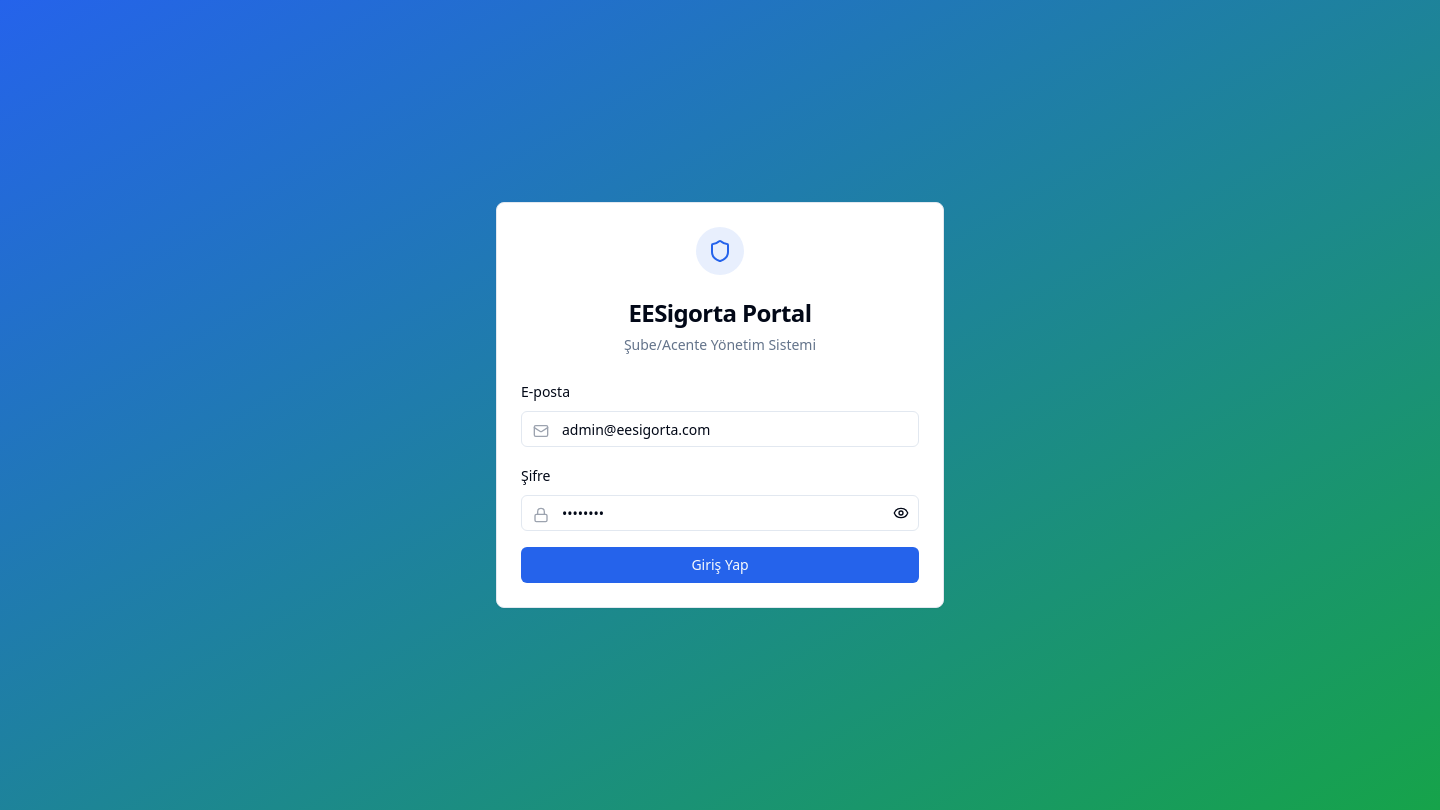
Test case: LoginPage › shows validation error for short password
The image size is (1440, 810).
In the password field labelled "Şifre": (720, 513) [521,495,919,531], type "123"
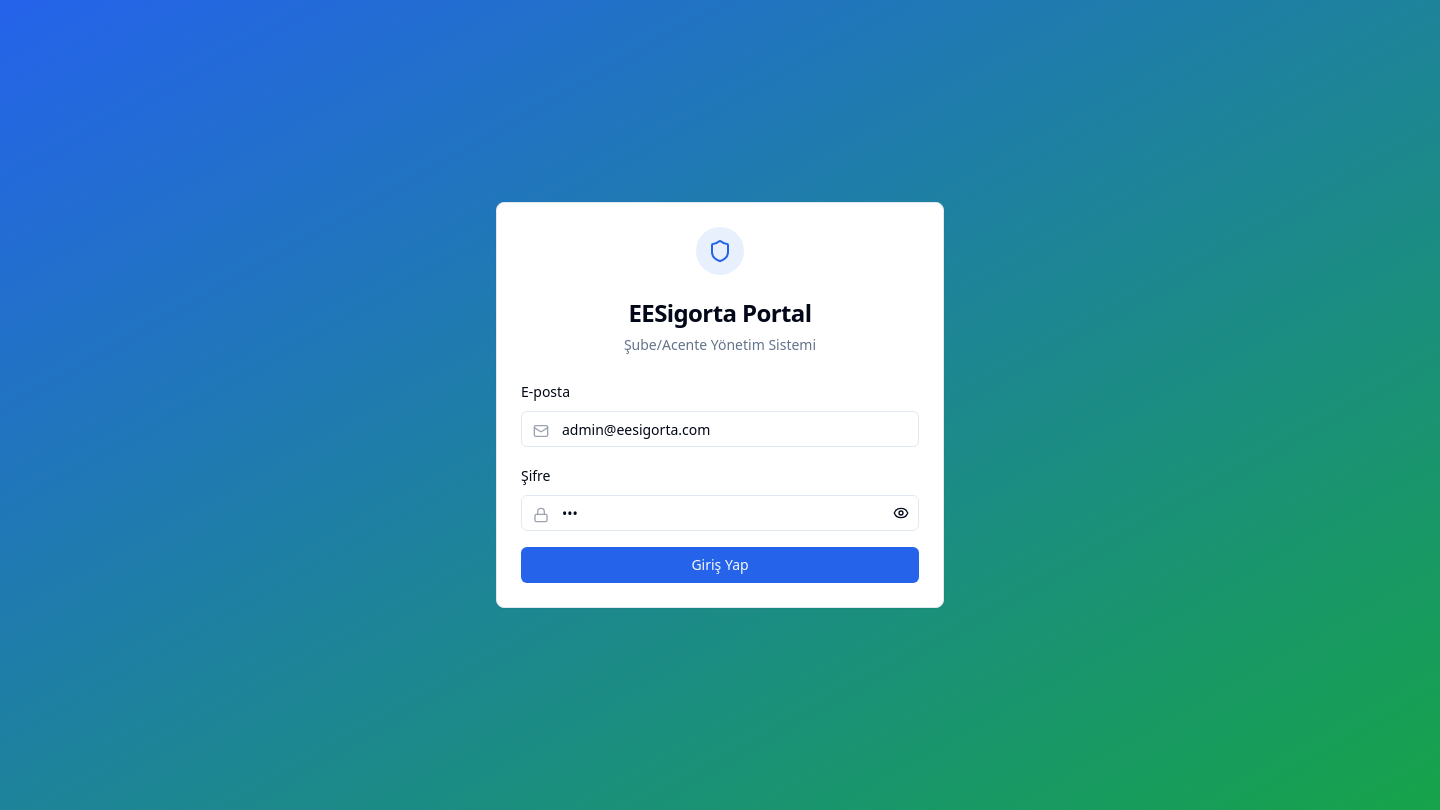
Click the button "Giriş Yap": (720, 565) [521,547,919,583]
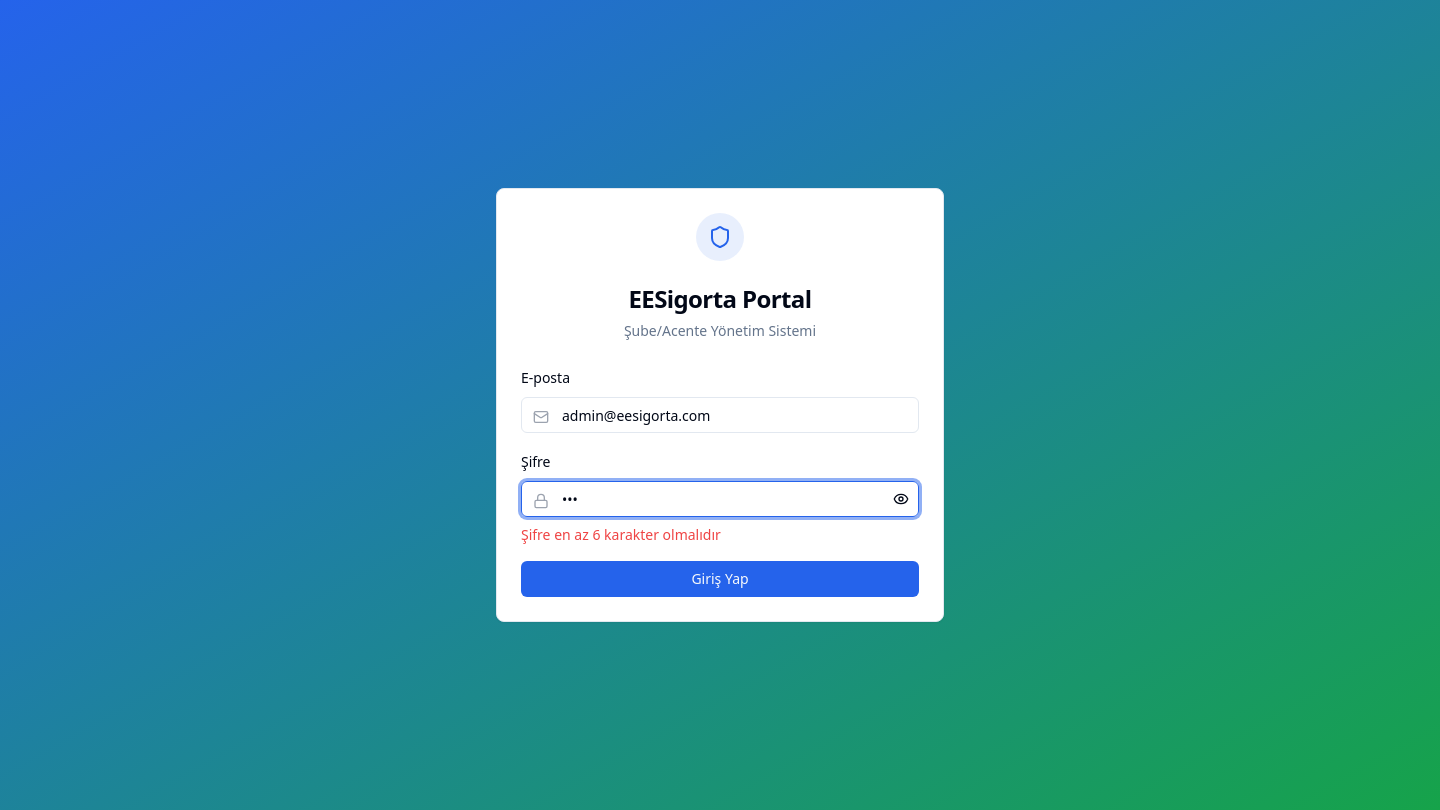
Result: the text "Şifre en az 6 karakter olmalıdır" is shown at [521,525,721,544]
